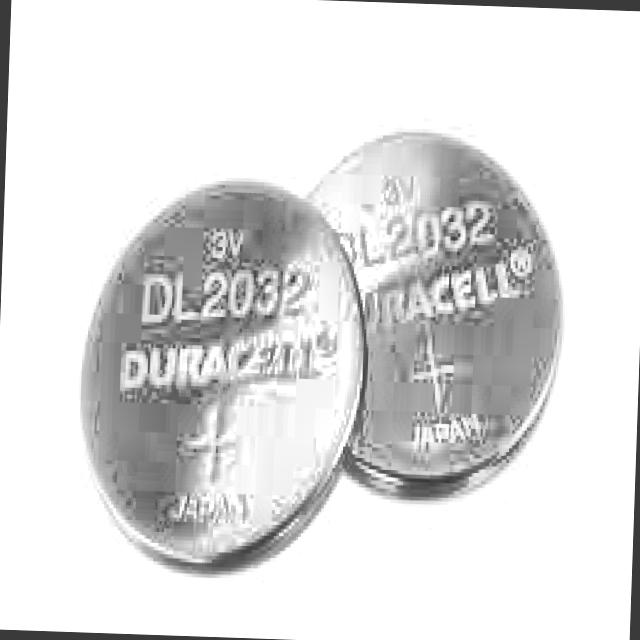Battery: (77, 180, 366, 564), (344, 137, 566, 501)
